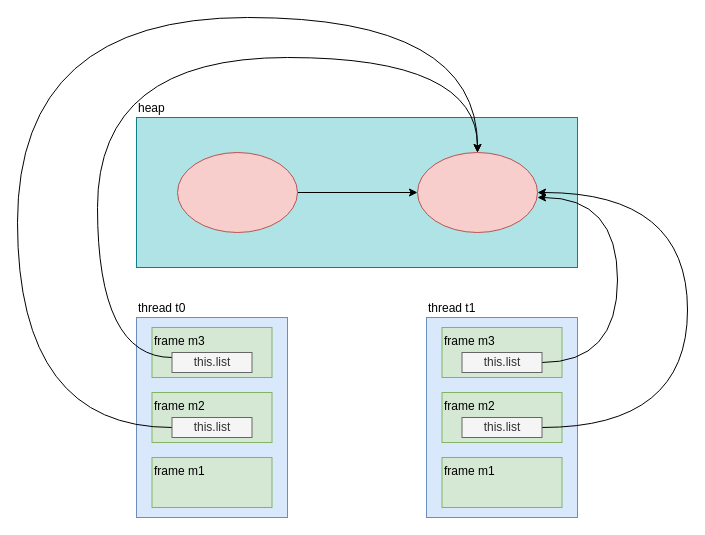
The diagram is 705 pixels wide and 535 high, and some of its shapes have lost their labels. The centre of each missing label's shape, as x and y in pixels:
"List list" goes at point 477,192.
"MObject mo" goes at point 237,192.
